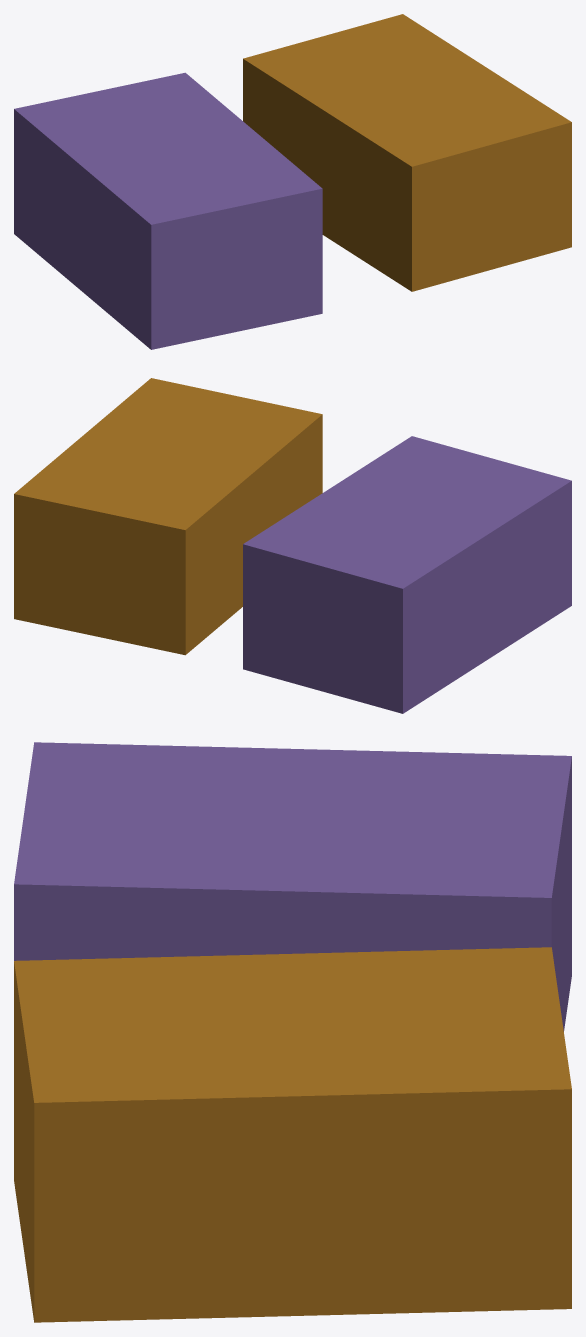
File: feet.glb
The picture shows the model from 3 angles, top to bottom: view 1: azimuth 30°, elevation 25°; view 2: azimuth 150°, elevation 25°; view 3: azimuth 270°, elevation 25°; orthographic projection. The views are drawn at different scales.
Parts seen in each view (by area): view 1: boot_-1, boot_1; view 2: boot_-1, boot_1; view 3: boot_1, boot_-1.
Part boxes in pixels (<box>): boot_-1: <box>14,72,322,349</box>; boot_1: <box>243,14,571,291</box>; boot_-1: <box>243,436,571,713</box>; boot_1: <box>14,378,322,655</box>; boot_1: <box>14,947,571,1322</box>; boot_-1: <box>14,742,571,1031</box>.
Bounding box in the file's own units: 0.6335 × 0.18 × 0.4143.
